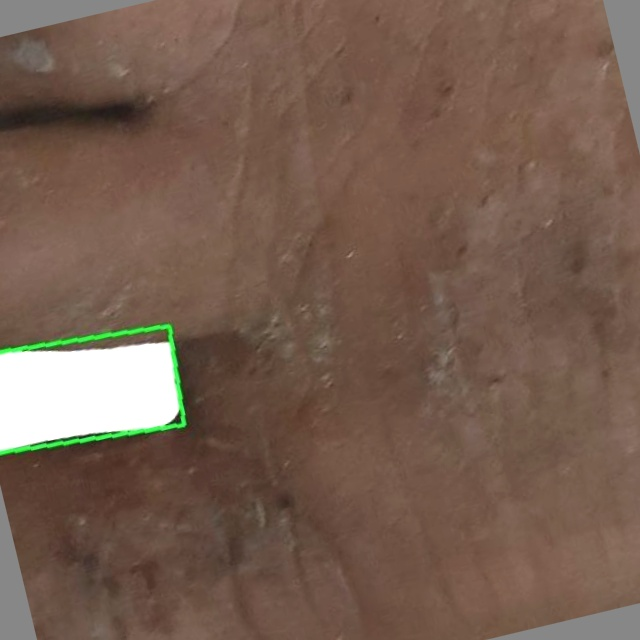Eczema: (0, 324, 184, 451)
